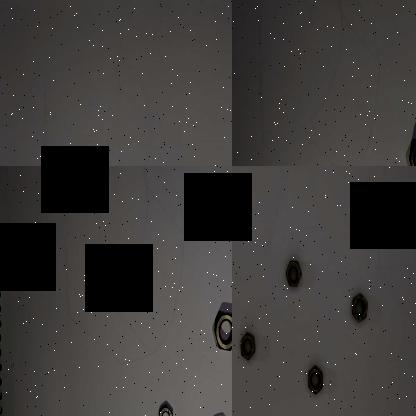NUTS: (211, 307, 232, 354), (283, 254, 303, 292), (236, 328, 258, 362), (350, 291, 370, 323), (306, 364, 324, 398), (156, 399, 174, 416), (407, 136, 416, 166)
